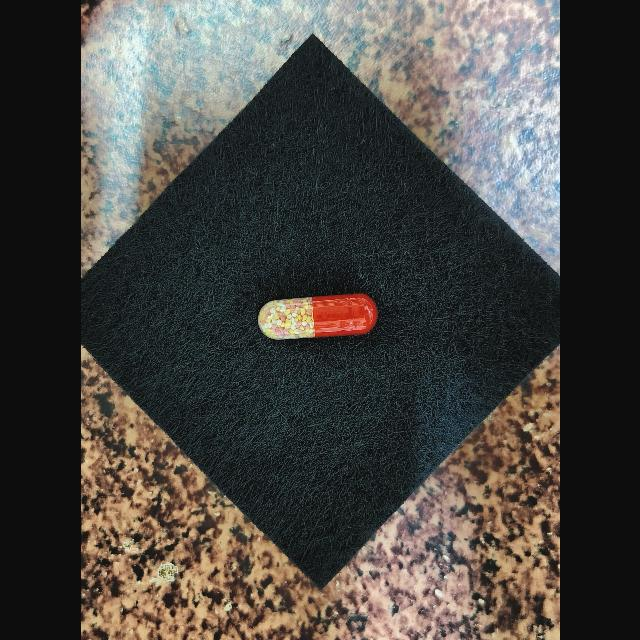Intact Capsule: (257, 294, 377, 340)
